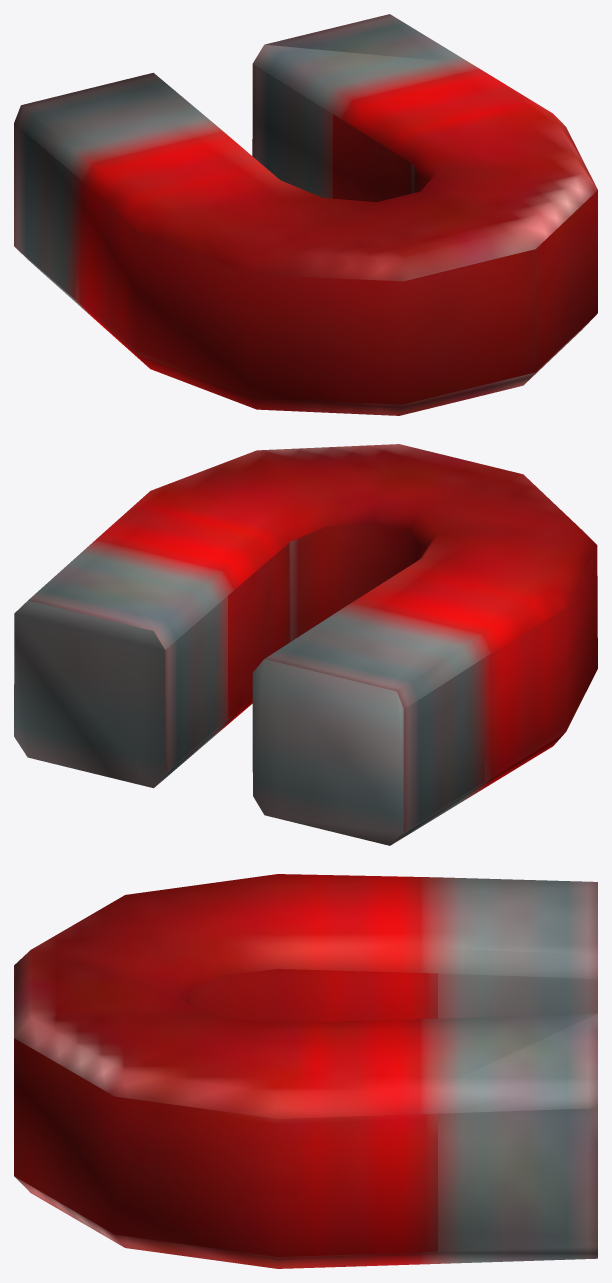
The model's file is cfo_magnet.glb.
The picture shows the model from 3 angles, top to bottom: view 1: azimuth 30°, elevation 25°; view 2: azimuth 150°, elevation 25°; view 3: azimuth 270°, elevation 25°; orthographic projection. The views are drawn at different scales.
Parts seen in each view (by area): view 1: magnet; view 2: magnet; view 3: magnet.
Part boxes in pixels (bbox=[...]): magnet: bbox=[14, 14, 597, 415]; magnet: bbox=[14, 444, 597, 845]; magnet: bbox=[14, 874, 597, 1268].
Size of the model in its own units: 3.88 by 1.36 by 4.09.
1 material, 1 textured.
